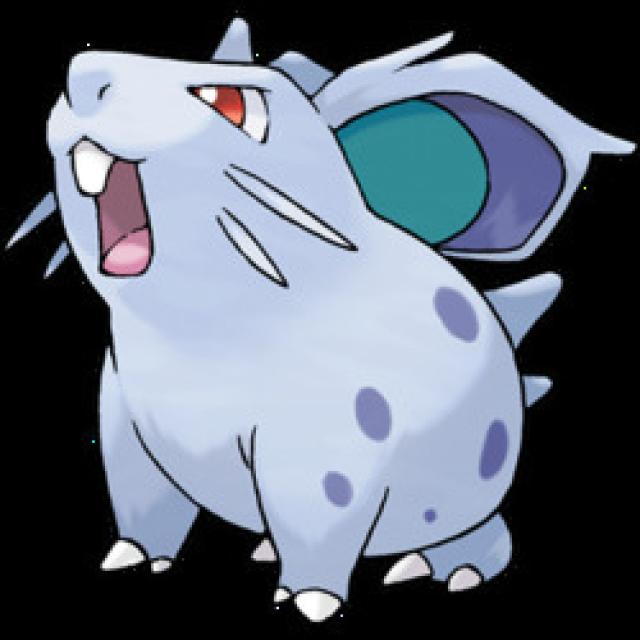Nidorina: (21, 19, 562, 609)
